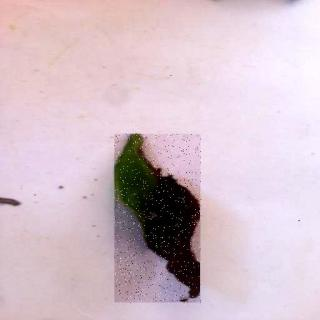Brown Blight: (116, 135, 203, 305)
